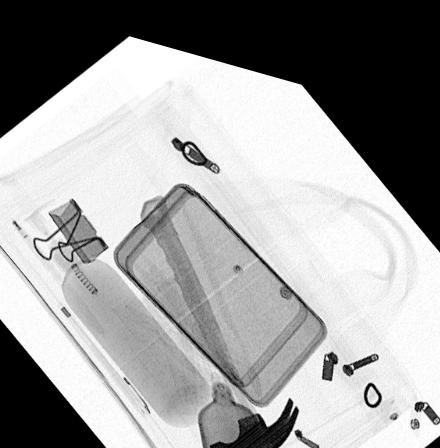Hammer: (139, 183, 300, 448)
